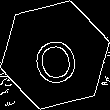O_N: (28, 25, 82, 85)
